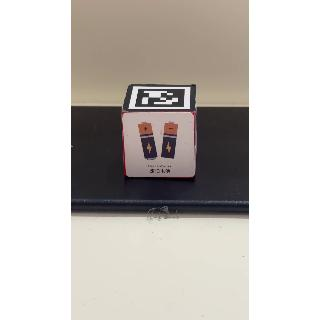Used_Battery: (124, 112, 198, 181)
